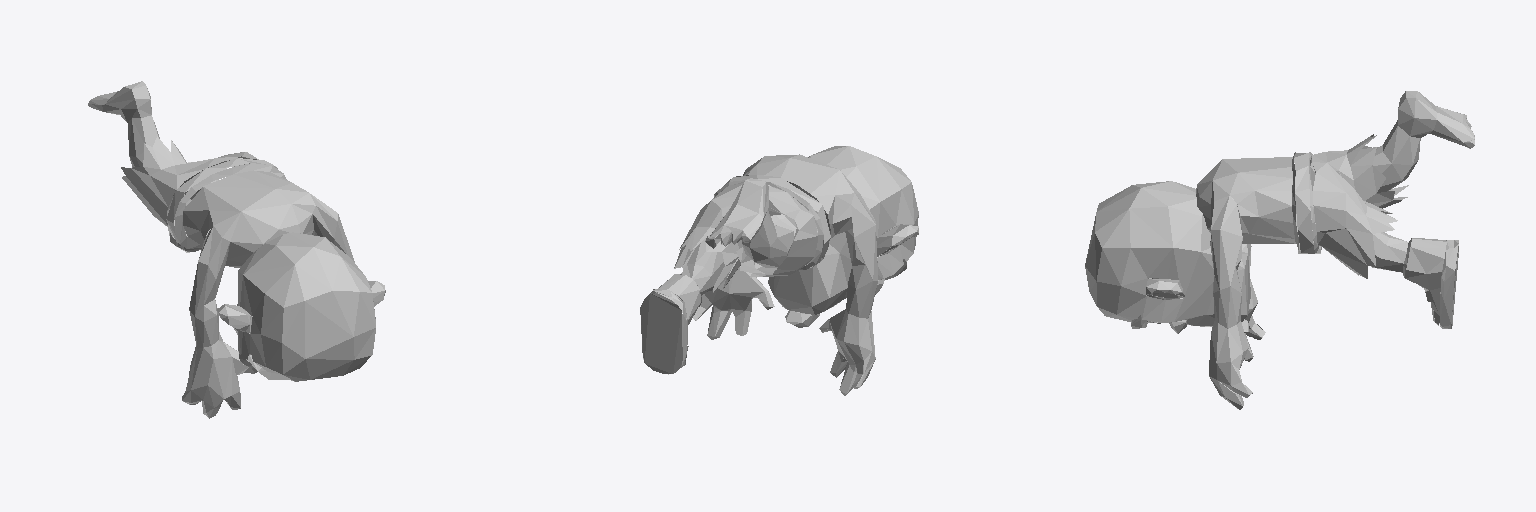
Rendered from ZombieWalk0020.obj.
3 views of the same model, side by side, from view 1: azimuth 30°, elevation 25°; view 2: azimuth 150°, elevation 25°; view 3: azimuth 270°, elevation 25° (orthographic).
Visible parts, largest first — view 1: Zombie; view 2: Zombie; view 3: Zombie.
Boxes of the visible parts, x1=… form: Zombie: x1=88, y1=81, x2=385, y2=418; Zombie: x1=640, y1=146, x2=918, y2=395; Zombie: x1=1085, y1=91, x2=1474, y2=409.
Bounding box in the file's own units: 3.09 × 4.33 × 5.61.